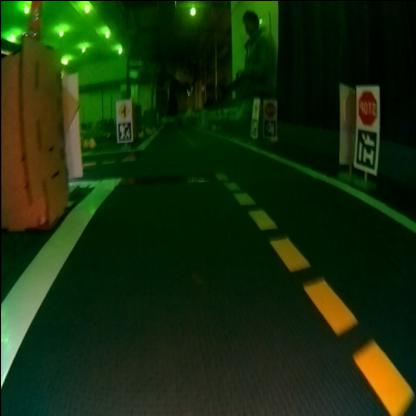Duckie: (90, 138, 94, 146)
Intersection sign: (118, 101, 130, 117), (252, 99, 258, 115)
QR code: (354, 128, 376, 166), (118, 120, 130, 138), (264, 122, 276, 136), (250, 119, 256, 133)
Stop sign: (358, 87, 378, 123), (265, 101, 275, 115)
